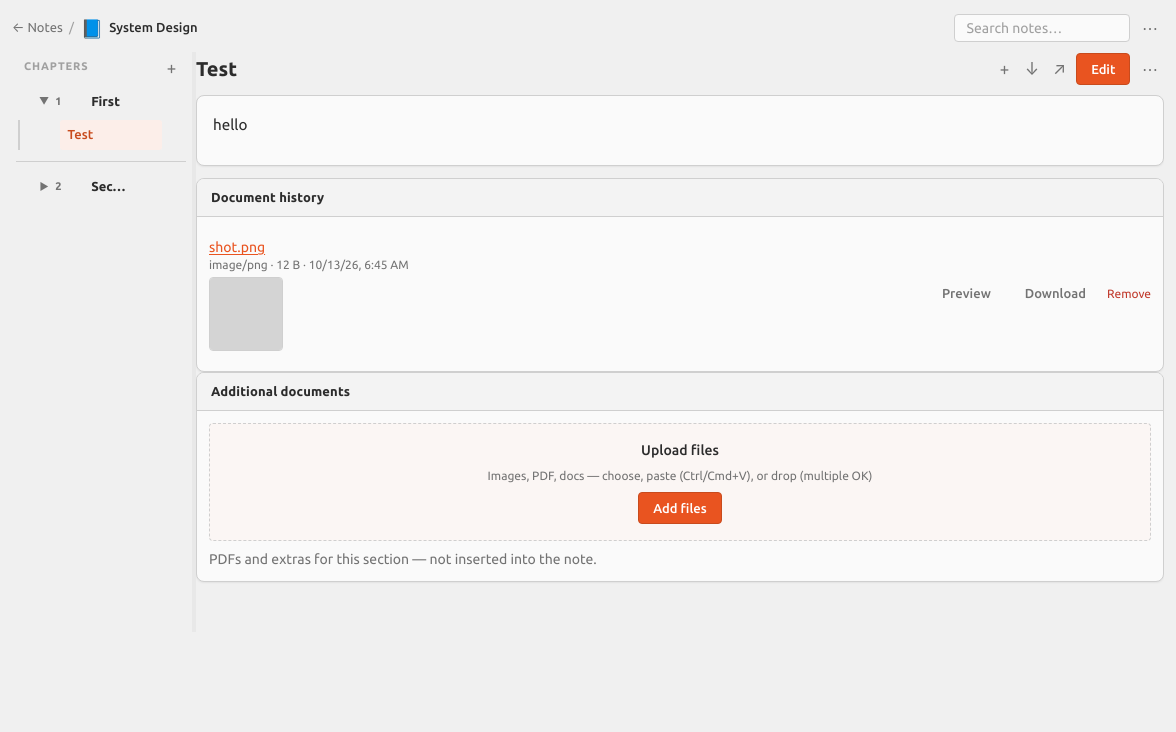
KnowledgeSubjectComponent › adds a chapter from the plus control and enters inline rename
Click the button named "New chapter" at {"x": 171, "y": 69}, box [160,58,182,80]
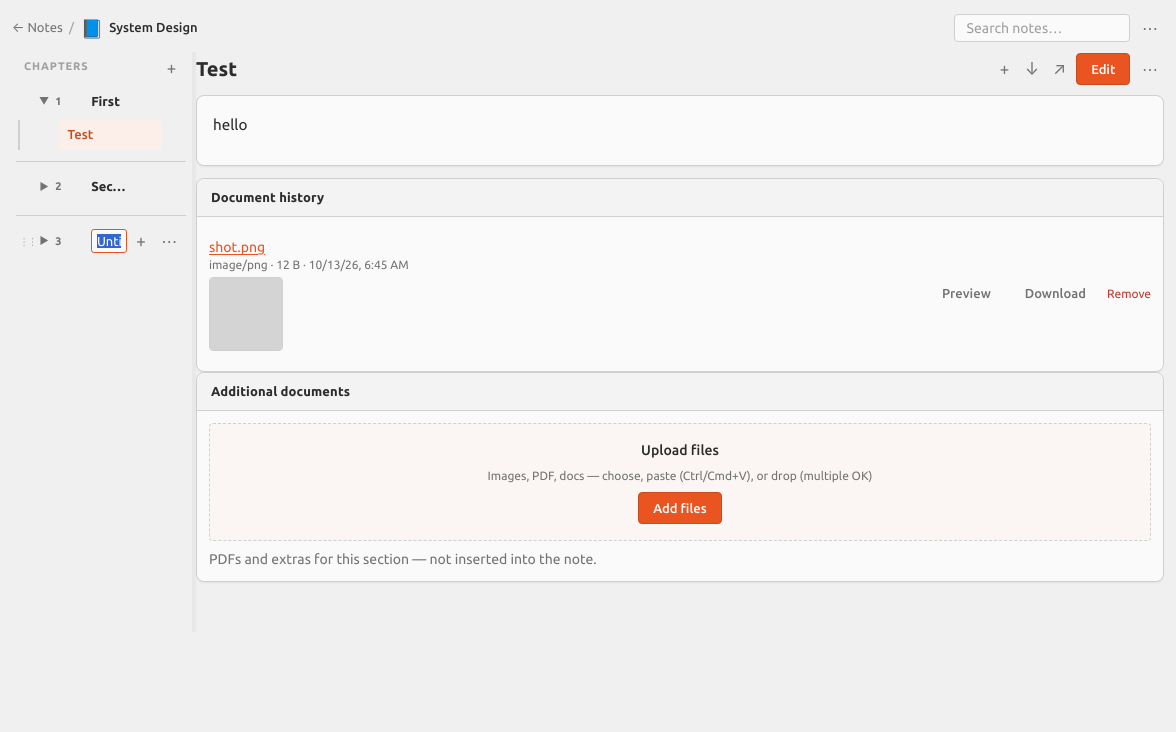
Now the field named "Rename chapter" is shown, box [91,229,127,253]
